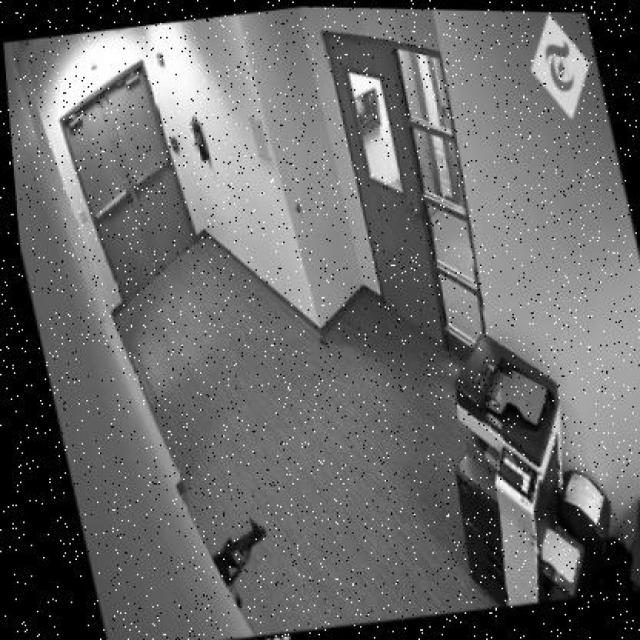weapon: (201, 519, 268, 590)
